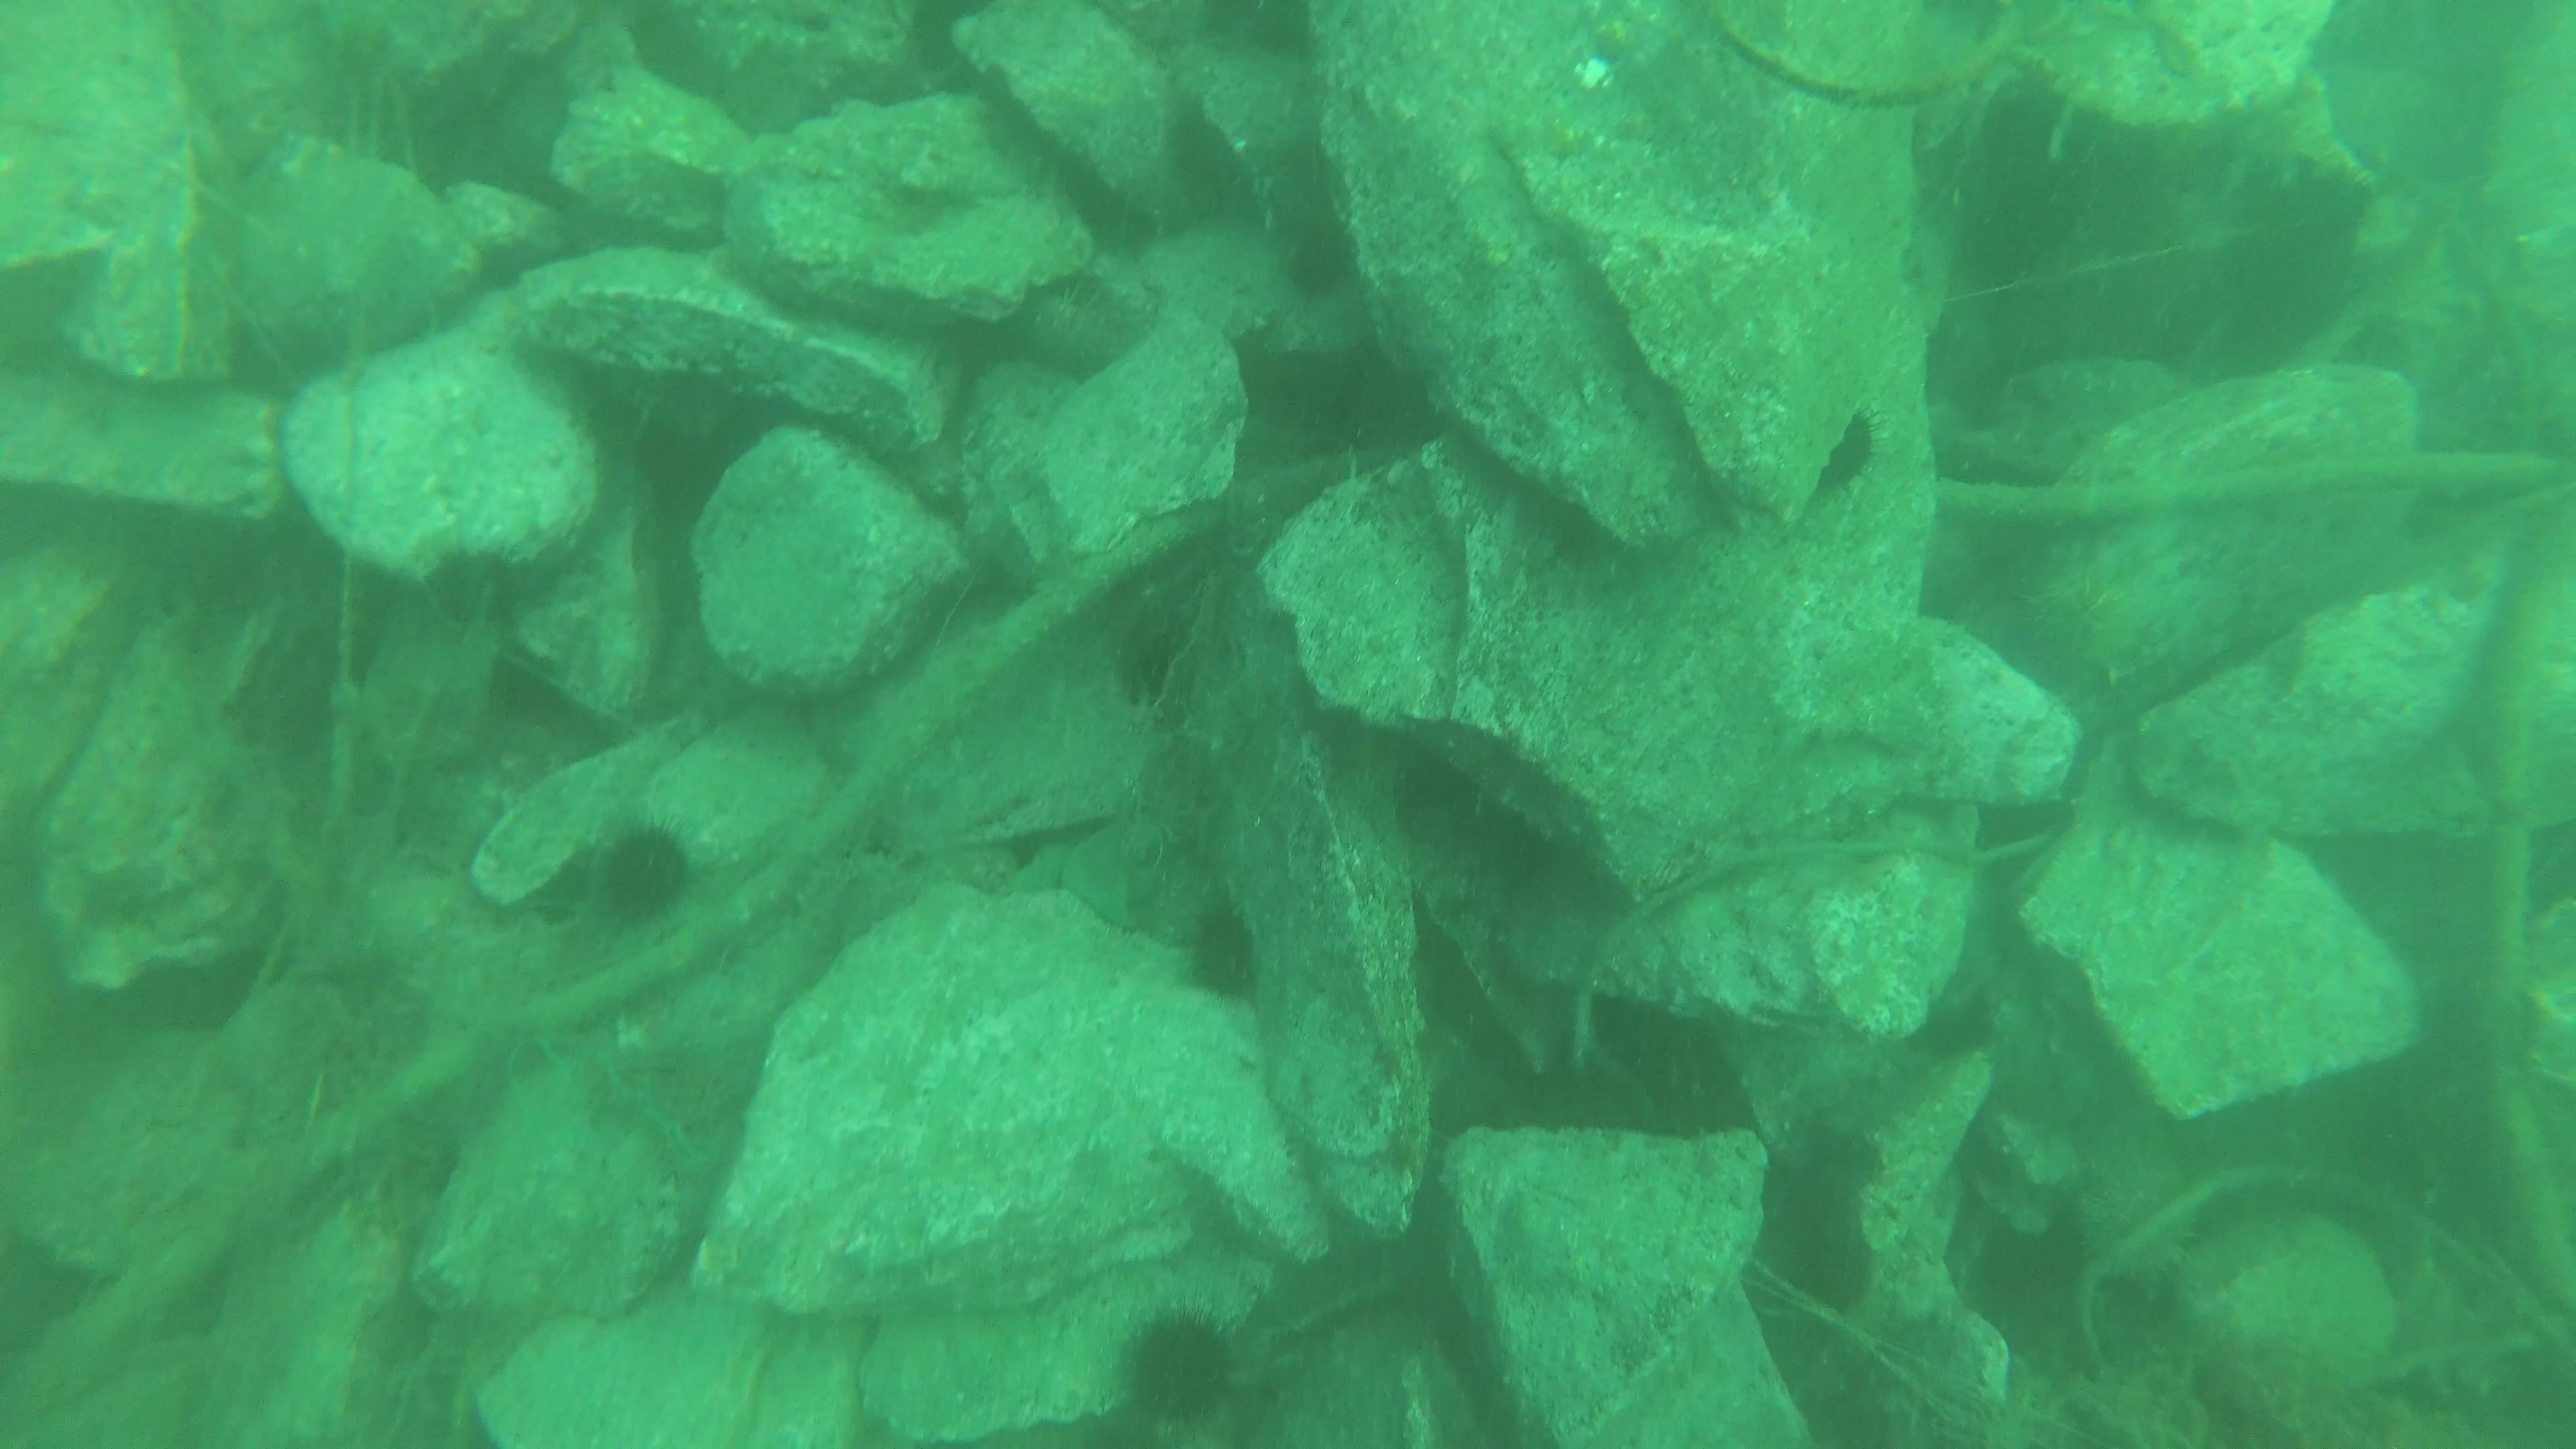echinus: (2013, 543, 2176, 688), (1109, 1300, 1247, 1433), (582, 816, 702, 932), (1169, 895, 1272, 1008), (1272, 214, 1362, 308), (1813, 403, 1890, 508)
